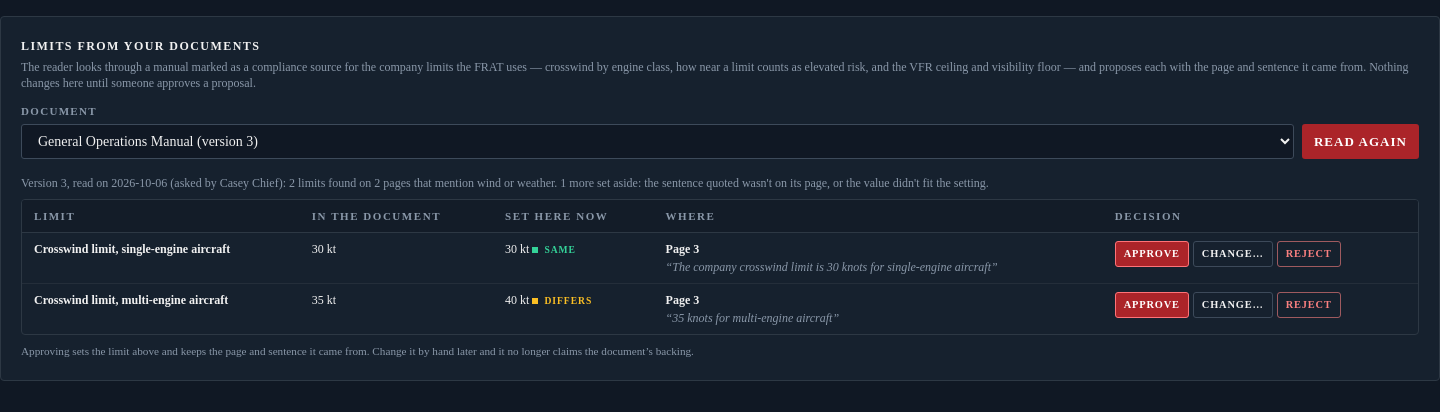
Test: DocumentLimitsSection › rejects, and shows a refusal where it happened
This screenshot has width=1440, height=412.
Click the button with aria-label "Reject Crosswind limit, single-engine aircraft": (1309,254) [1277,241,1341,267]
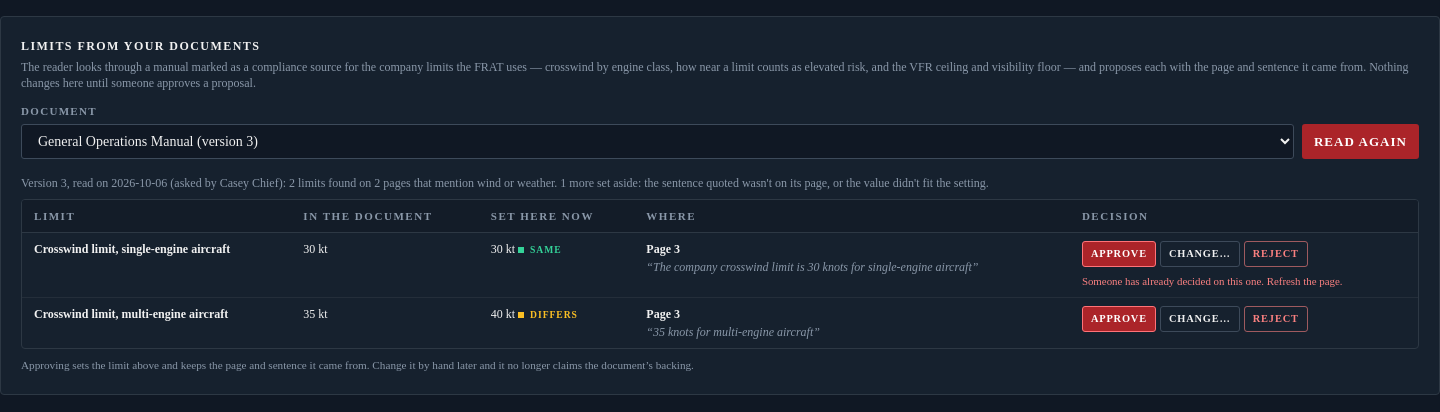
Now the message shows "Someone has already decided on this one.", box [1082,275,1342,287]
